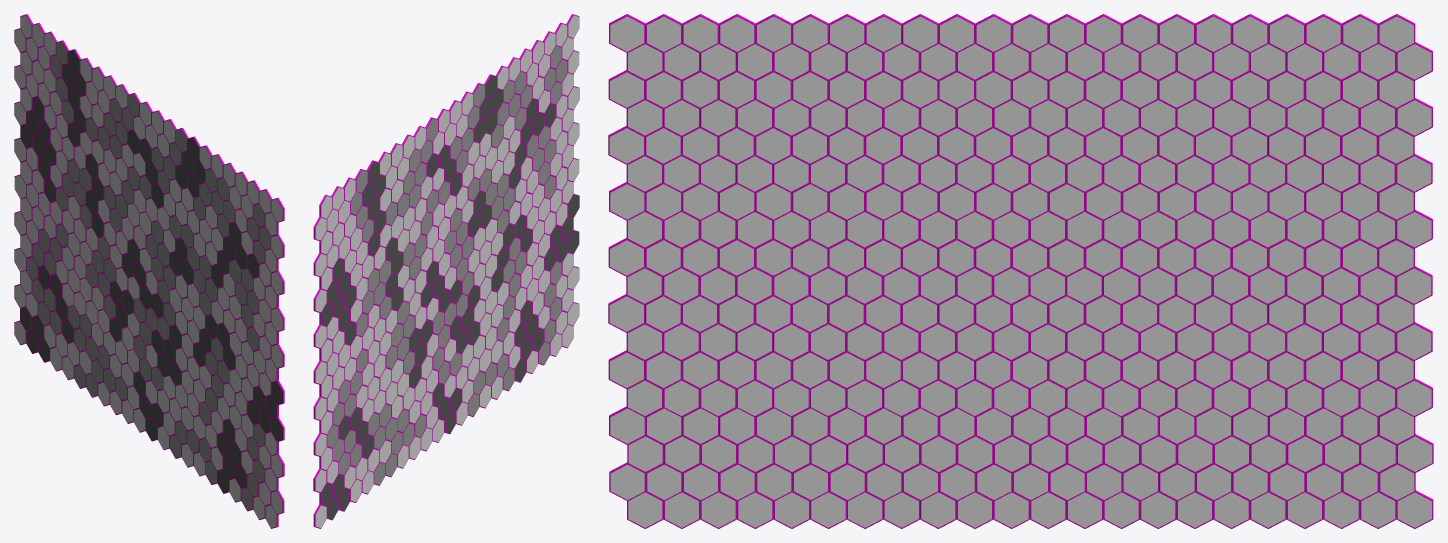
The model's file is MapWall.fbx.
The picture shows the model from 3 angles, left to right: view 1: azimuth 30°, elevation 25°; view 2: azimuth 150°, elevation 25°; view 3: azimuth 270°, elevation 25°; orthographic projection. The views are drawn at different scales.
Visible parts, largest first — view 1: MapWall; view 2: MapWall; view 3: MapWall.
Part boxes in pixels (bbox=[...]): MapWall: bbox=[14, 14, 284, 528]; MapWall: bbox=[313, 14, 579, 528]; MapWall: bbox=[608, 14, 1433, 528].
Size of the model in its own units: 15 by 2673 by 3889.
